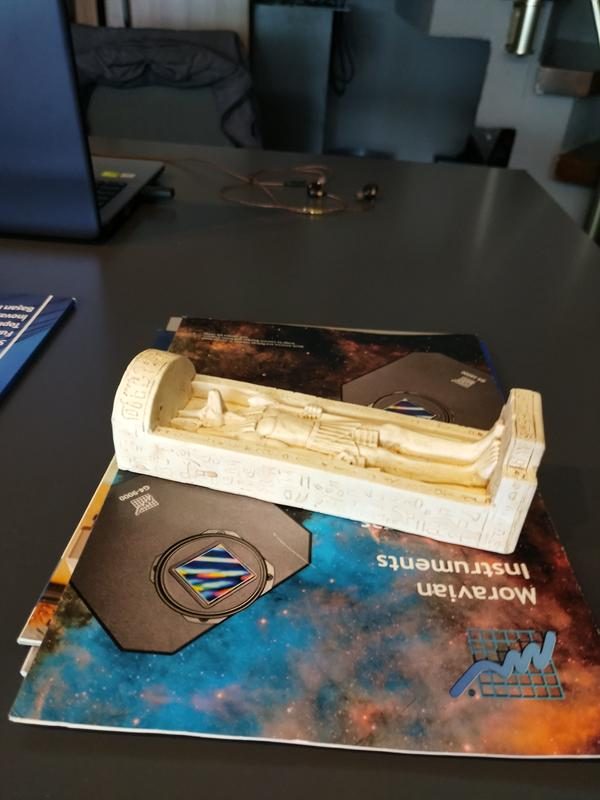heykel: (103, 344, 554, 565)
